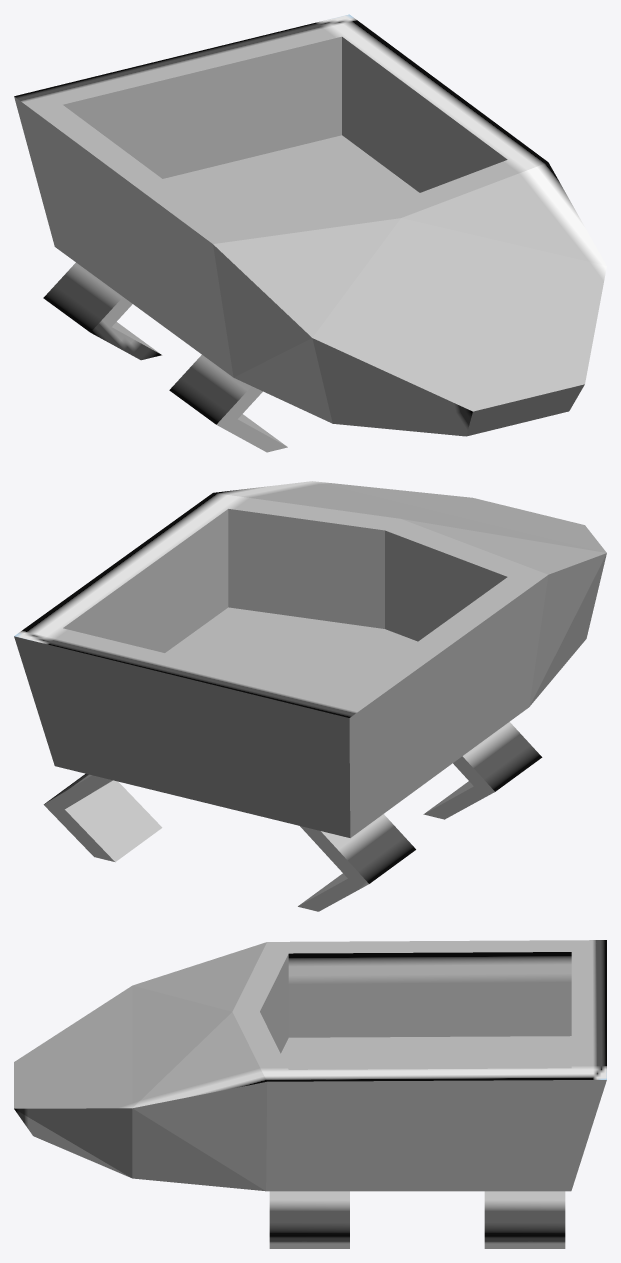
File: coaster.obj
The picture shows the model from 3 angles, top to bottom: view 1: azimuth 30°, elevation 25°; view 2: azimuth 150°, elevation 25°; view 3: azimuth 270°, elevation 25°; orthographic projection. The views are drawn at different scales.
Visible parts, largest first — view 1: Cube; view 2: Cube; view 3: Cube.
Part boxes in pixels (x1=…): Cube: x1=14, y1=14, x2=606, y2=452; Cube: x1=14, y1=481, x2=606, y2=911; Cube: x1=14, y1=940, x2=606, y2=1248.
Size of the model in its own units: 1.36 by 0.8731 by 2.44.
